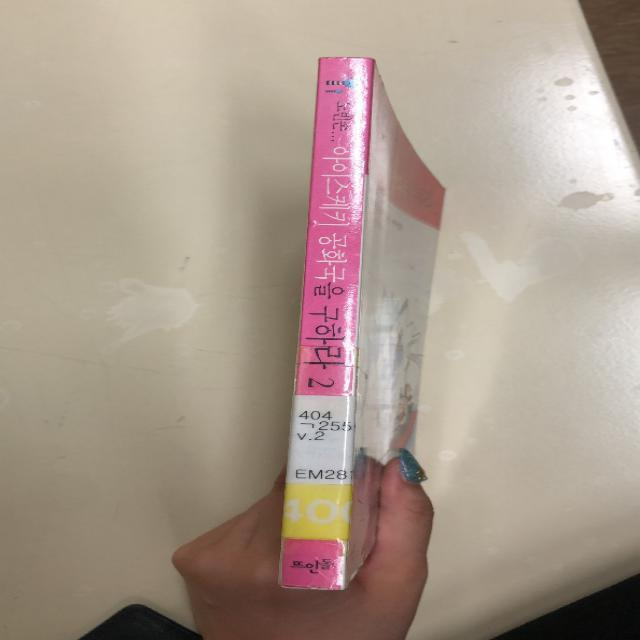Wornout: (276, 576, 347, 594), (317, 52, 373, 67)
